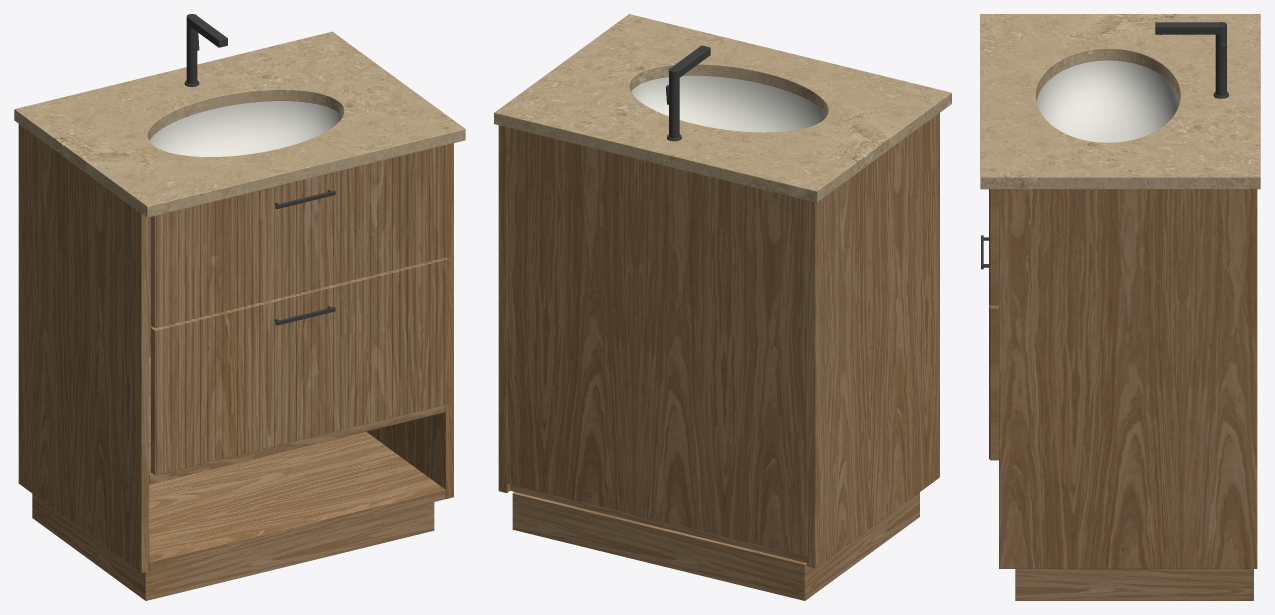
The model's file is cabinet.glb.
3 views of the same model, side by side, from view 1: azimuth 30°, elevation 25°; view 2: azimuth 150°, elevation 25°; view 3: azimuth 270°, elevation 25° (orthographic). The views are drawn at different scales.
Parts seen in each view (by area): view 1: left, top, lower, base, upper, plinth, lower-reed (×15), basin, right, shelf, tap-stem; view 2: back, left, top, plinth, basin, right, base, tap-stem; view 3: right, top, basin, plinth, lower, upper, spout, tap-stem.
Boxes of the visible parts, box(x1,y1,x2,y2) form: left: box(18, 124, 149, 573); top: box(14, 31, 465, 217); lower: box(150, 257, 448, 475); base: box(149, 432, 445, 571); upper: box(150, 144, 448, 327); plinth: box(32, 494, 434, 600); lower-reed (×15): box(155, 259, 447, 475); basin: box(149, 101, 341, 156); right: box(366, 143, 453, 498); shelf: box(149, 358, 445, 484); tap-stem: box(186, 14, 197, 83); back: box(507, 127, 807, 556); left: box(807, 113, 939, 568); top: box(494, 14, 951, 202); plinth: box(512, 492, 919, 600); basin: box(631, 75, 826, 132); right: box(498, 125, 510, 492); base: box(510, 484, 807, 562); tap-stem: box(669, 67, 679, 138); right: box(999, 189, 1257, 568); top: box(980, 14, 1260, 189); basin: box(1036, 60, 1179, 142); plinth: box(1015, 569, 1253, 600); lower: box(990, 305, 998, 460); upper: box(990, 189, 998, 305); spout: box(1155, 22, 1220, 34); tap-stem: box(1215, 22, 1226, 95).
Bounding box in the file's own units: 0.69 × 0.99 × 0.5.
5 materials, 2 textured.
